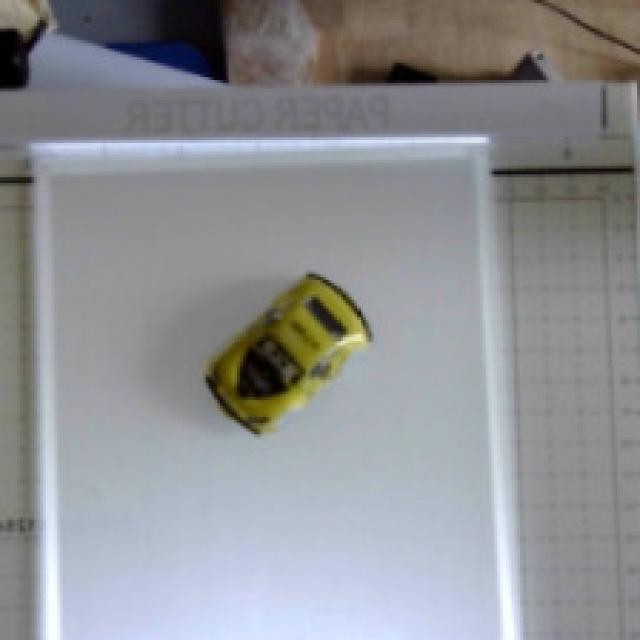Yellow Car: (174, 254, 421, 438)
